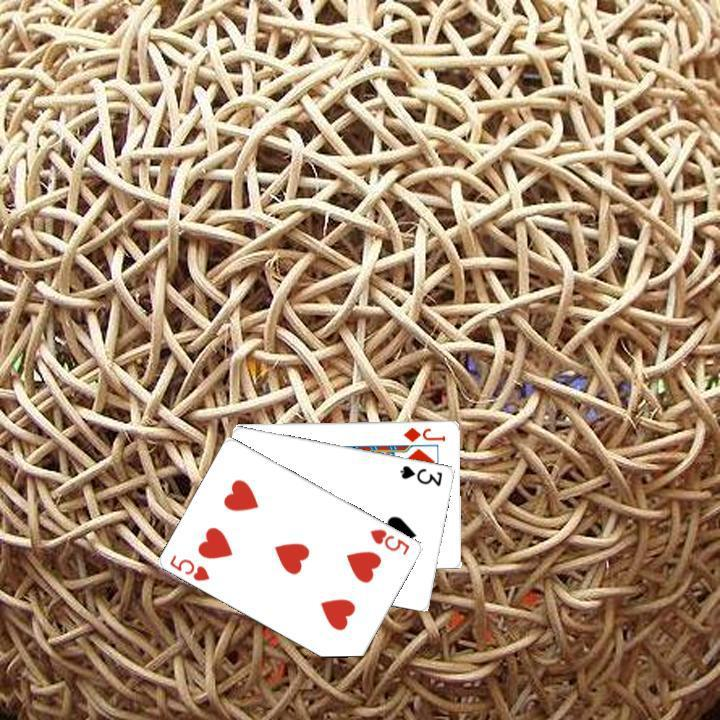3: (396, 461, 445, 488)
5: (366, 524, 412, 557), (166, 550, 212, 583)
J: (399, 423, 447, 444)
